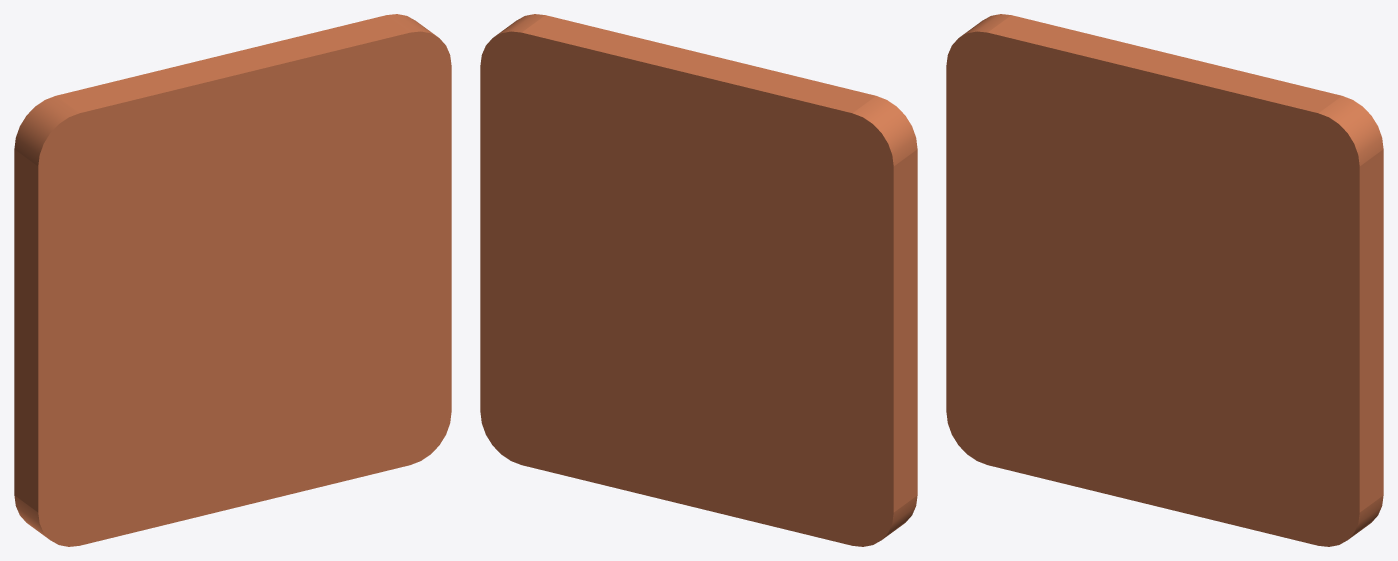
The model's file is burger.obj.
3 views of the same model, side by side, from view 1: azimuth 30°, elevation 25°; view 2: azimuth 150°, elevation 25°; view 3: azimuth 330°, elevation 25° (orthographic).
Size of the model in its own units: 10 by 10 by 1.
1 material, 1 textured.
